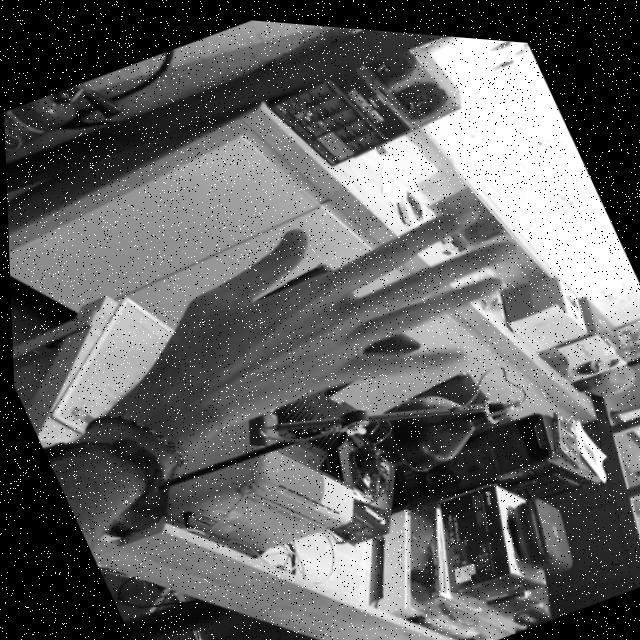no-gloves: (115, 128, 562, 480)
